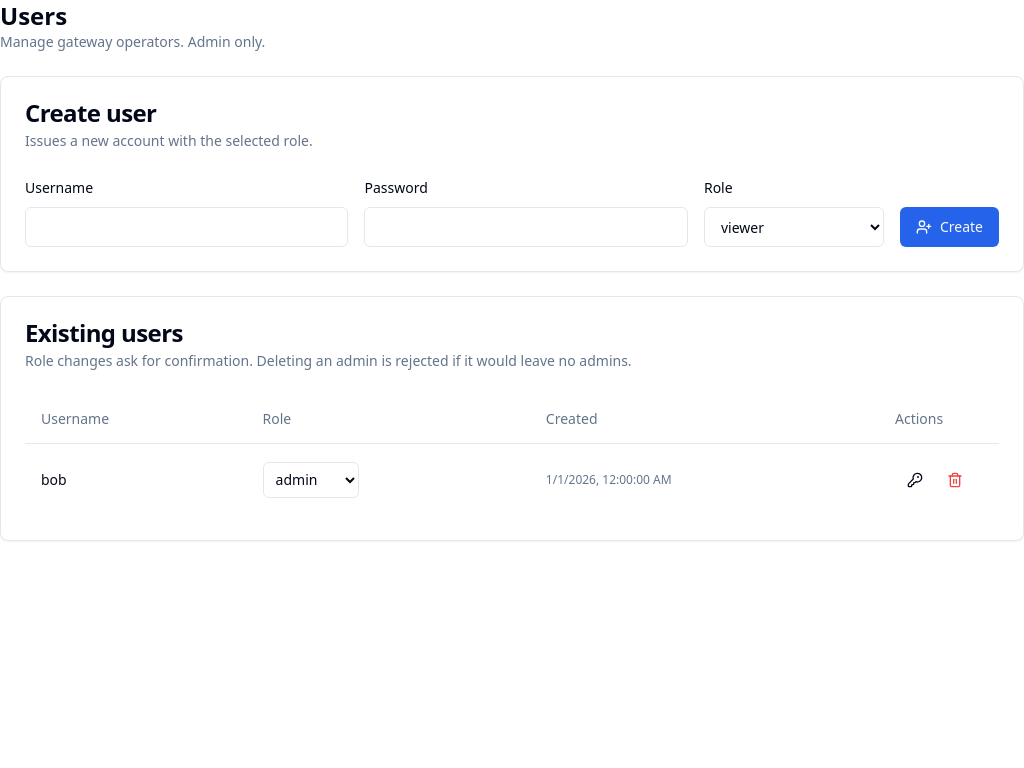
Test: Users › asks for confirmation before changing a role
This screenshot has width=1024, height=768.
Later steps or results of the test are not shown.
Select "operator" in the dropdown named "Role for bob" at point(311, 480), box [263,462,359,498]
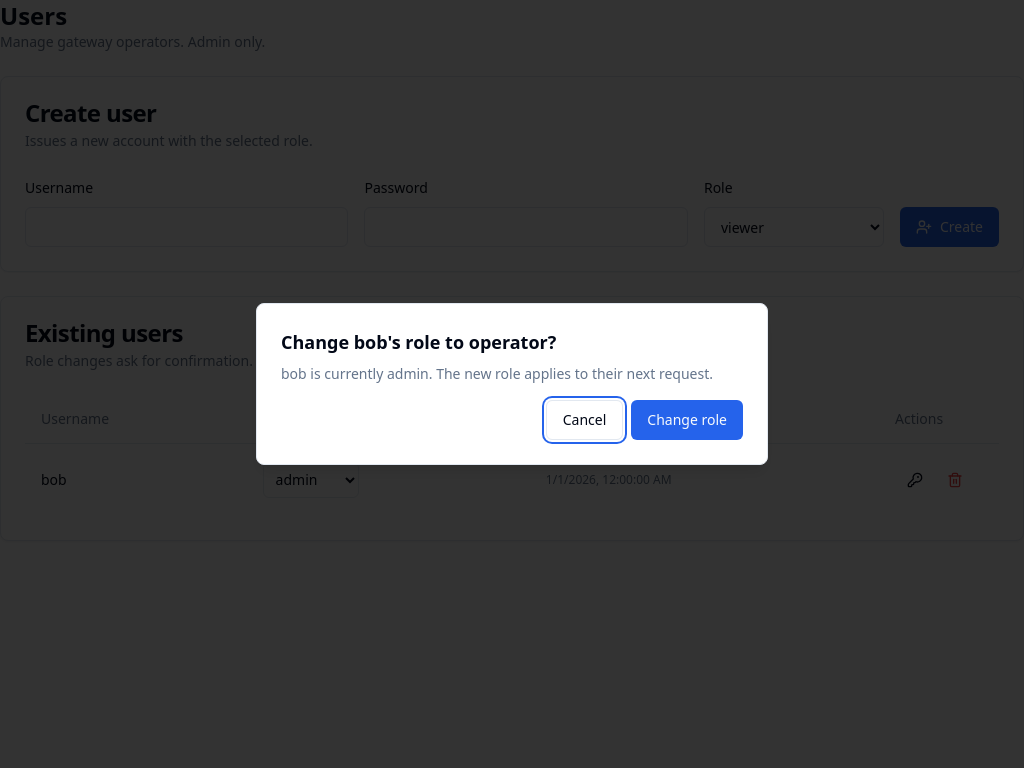
Expected: the dialog shows "Change bob's role to operator?", [256,303,768,465]
